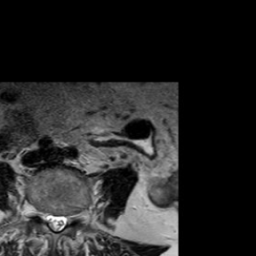CCS_stenosis: (53, 204, 60, 240)
LFS_normal: (68, 205, 76, 230)
LLS_normal: (60, 207, 68, 236)
RFS_normal: (36, 200, 45, 228)
RLS_normal: (45, 204, 53, 235)
